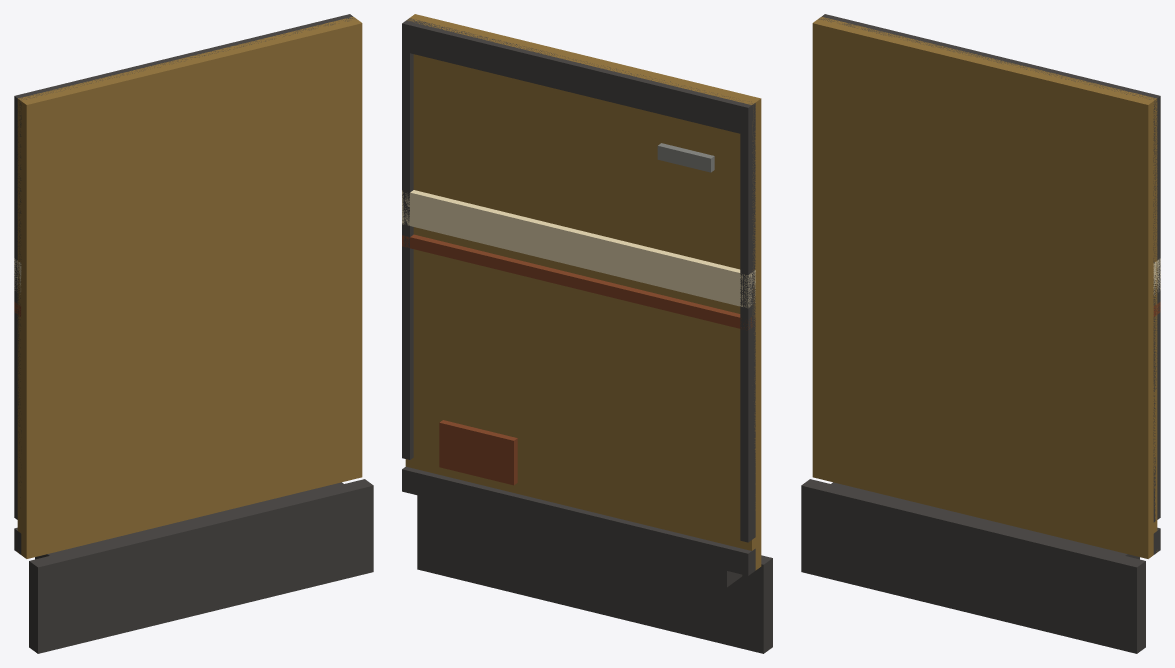
Rendered from door_side.glb.
The picture shows the model from 3 angles, left to right: view 1: azimuth 30°, elevation 25°; view 2: azimuth 150°, elevation 25°; view 3: azimuth 330°, elevation 25°; orthographic projection. The views are drawn at different scales.
Parts seen in each view (by area): view 1: door_side; view 2: door_side; view 3: door_side.
Part boxes in pixels (bbox=[...]): door_side: bbox=[14, 14, 373, 653]; door_side: bbox=[402, 14, 772, 653]; door_side: bbox=[801, 14, 1160, 653].
Size of the model in its own units: 0.65 by 1 by 0.08.
